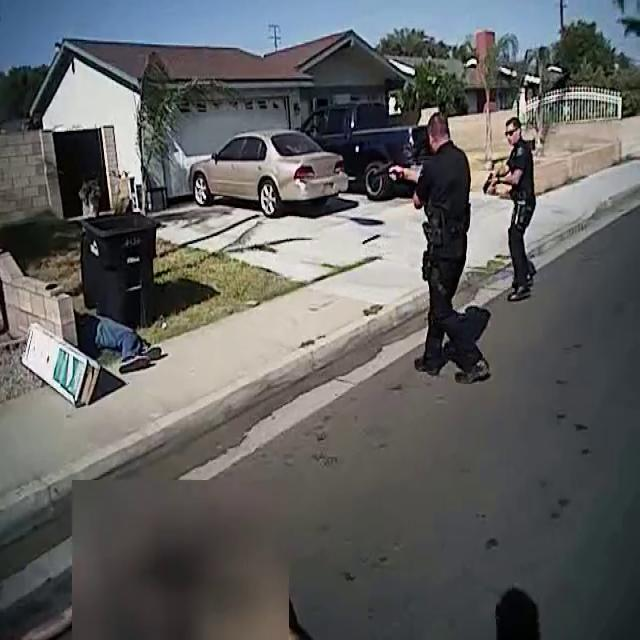gun: (367, 150, 405, 192), (479, 166, 499, 206)
